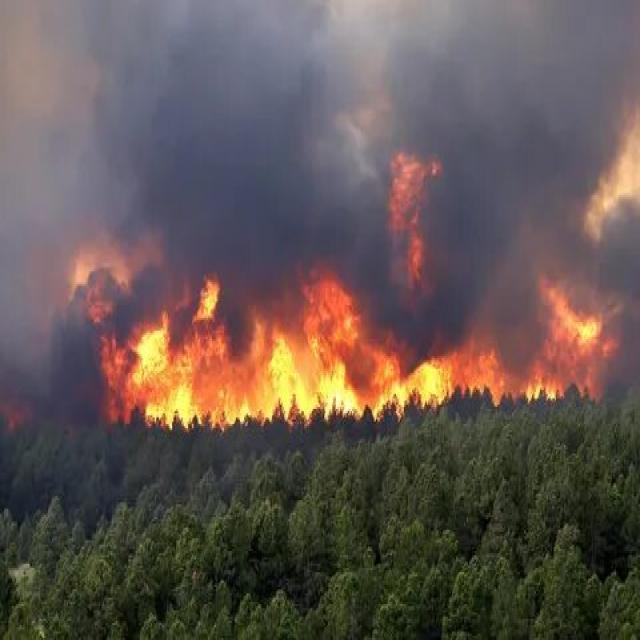Fire: (97, 266, 636, 448)
Smoke: (3, 0, 640, 271)
